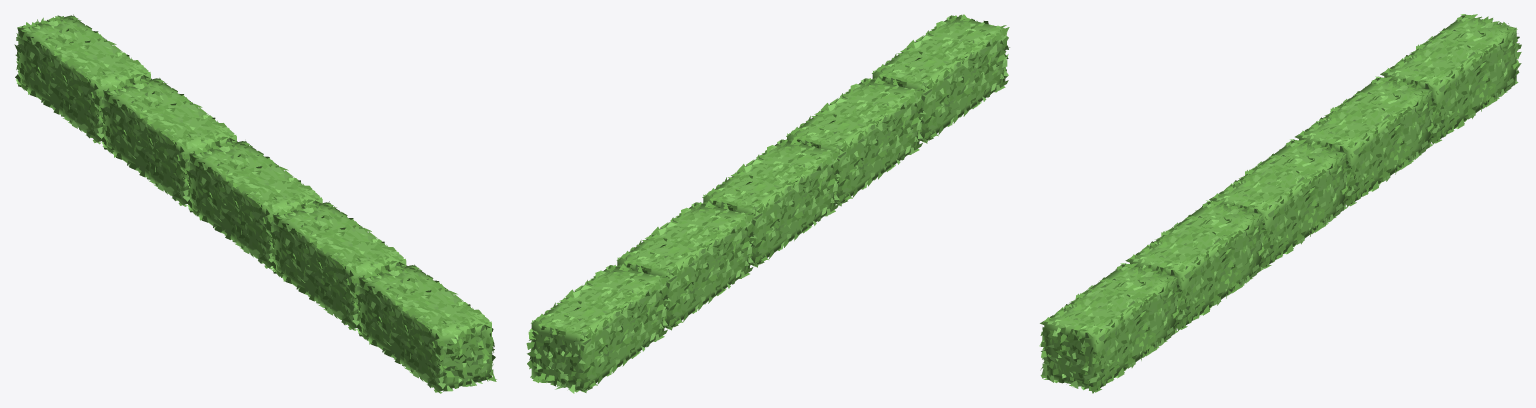
The model's file is BUSH4.fbx.
3 renders of one model, left to right at view 1: azimuth 30°, elevation 25°; view 2: azimuth 150°, elevation 25°; view 3: azimuth 330°, elevation 25°, orthographic.
Parts seen in each view (by area): view 1: Cube.105; view 2: Cube.105; view 3: Cube.105.
Boxes of the visible parts, x1,y1,x2,y2 form: Cube.105: (14,14,496,393); Cube.105: (526,14,1009,393); Cube.105: (1039,14,1521,393).
Bounding box in the file's own units: 1477 × 1469 × 18565.
